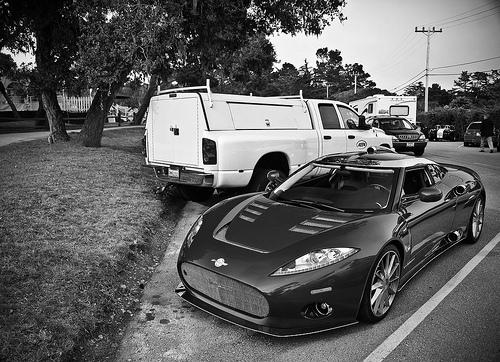car: (175, 148, 488, 345)
